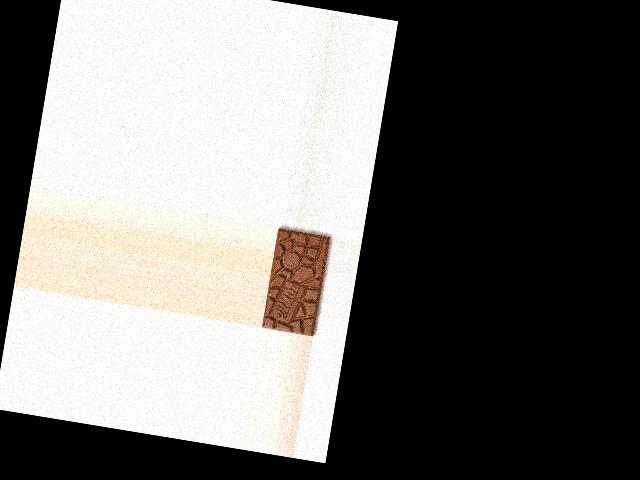chocolate: (262, 227, 333, 337)
